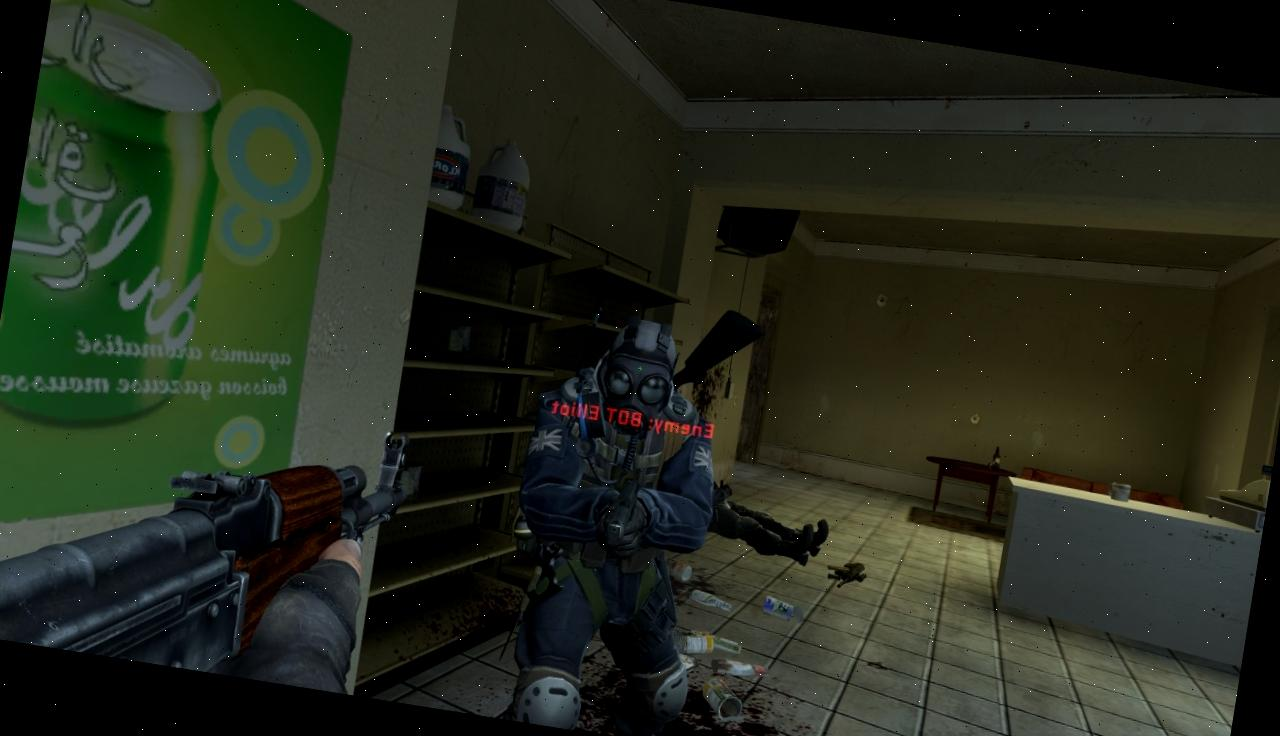ct: (482, 305, 736, 736)
cthead: (597, 316, 680, 419)
rifle: (0, 370, 417, 698)
